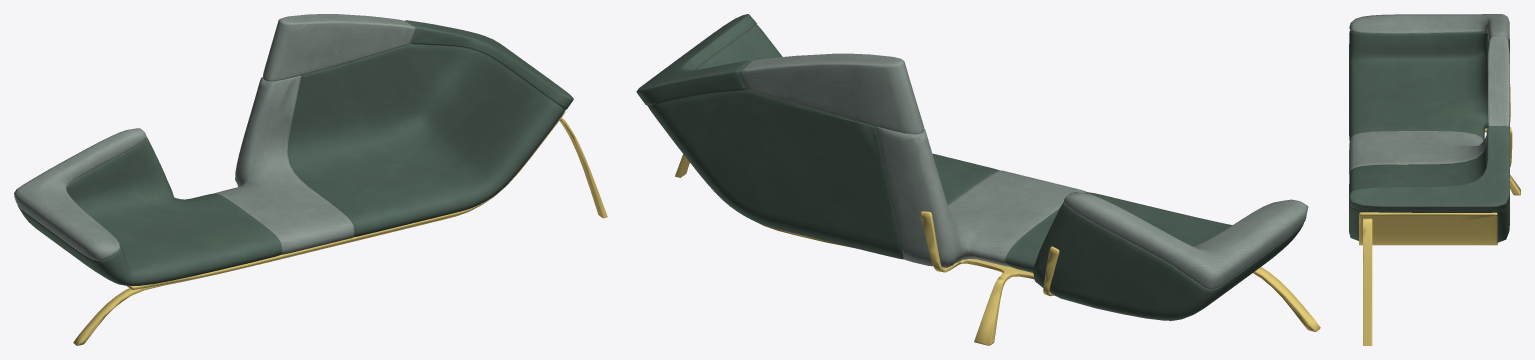
The model's file is furniture_delica_couch.glb.
The picture shows the model from 3 angles, left to right: view 1: azimuth 30°, elevation 25°; view 2: azimuth 150°, elevation 25°; view 3: azimuth 270°, elevation 25°; orthographic projection. The views are drawn at different scales.
Parts seen in each view (by area): view 1: DelicaCouch_DarkerFabric_0, DelicaCouch_LightFabric_0, DelicaCouch_Gold_0; view 2: DelicaCouch_DarkerFabric_0, DelicaCouch_LightFabric_0, DelicaCouch_Gold_0; view 3: DelicaCouch_DarkerFabric_0, DelicaCouch_LightFabric_0, DelicaCouch_Gold_0.
Boxes of the visible parts, left/top/right/bottom form: DelicaCouch_DarkerFabric_0: left=17, top=20, right=573, bottom=285; DelicaCouch_LightFabric_0: left=14, top=14, right=415, bottom=260; DelicaCouch_Gold_0: left=73, top=111, right=607, bottom=345; DelicaCouch_DarkerFabric_0: left=636, top=14, right=1303, bottom=320; DelicaCouch_LightFabric_0: left=740, top=53, right=1308, bottom=289; DelicaCouch_Gold_0: left=675, top=154, right=1320, bottom=345; DelicaCouch_DarkerFabric_0: left=1349, top=30, right=1509, bottom=242; DelicaCouch_LightFabric_0: left=1349, top=14, right=1509, bottom=175; DelicaCouch_Gold_0: left=1359, top=84, right=1520, bottom=345.
Bounding box in the file's own units: 3.98 × 1.47 × 1.18.
3 materials, 2 textured.
